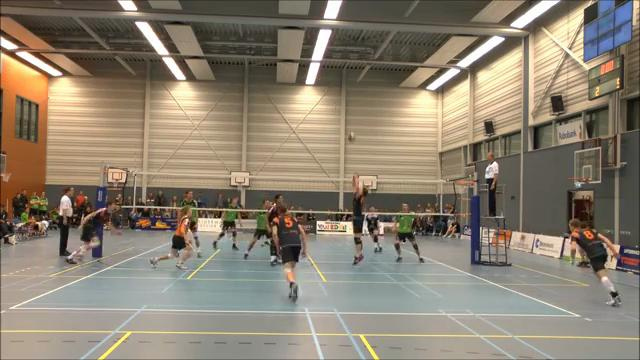Player: (569, 219, 620, 306), (272, 204, 306, 301), (66, 201, 116, 263), (150, 206, 192, 269), (394, 203, 424, 262), (179, 190, 201, 257), (213, 198, 241, 250), (244, 212, 270, 258), (267, 194, 283, 265), (366, 206, 381, 252)
Set: (346, 171, 370, 269)
ball: (346, 130, 356, 143)
